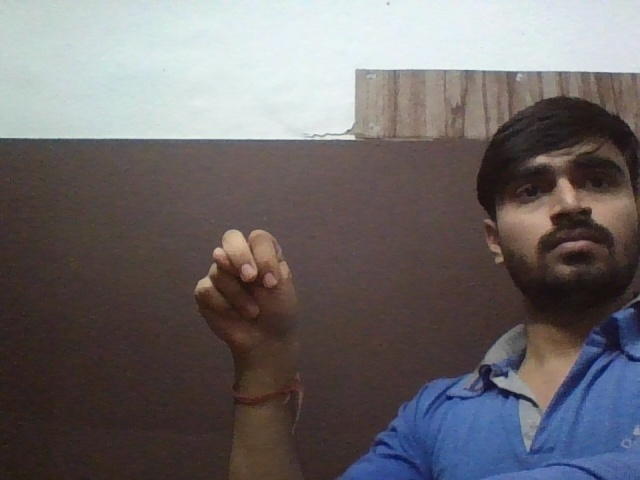N: (170, 223, 324, 358)
